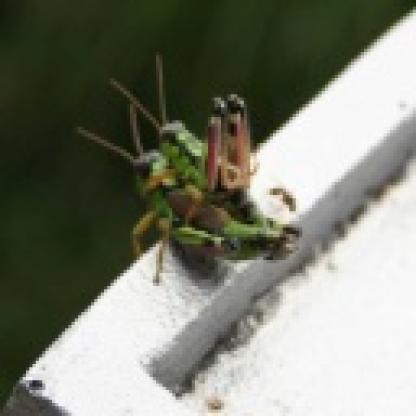grasshopper: (98, 65, 308, 242), (75, 127, 296, 281)
